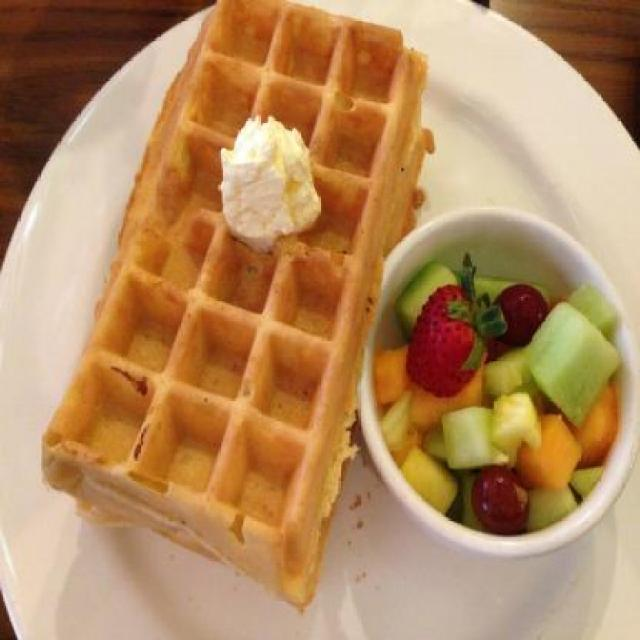Waffle: (37, 0, 440, 609)
